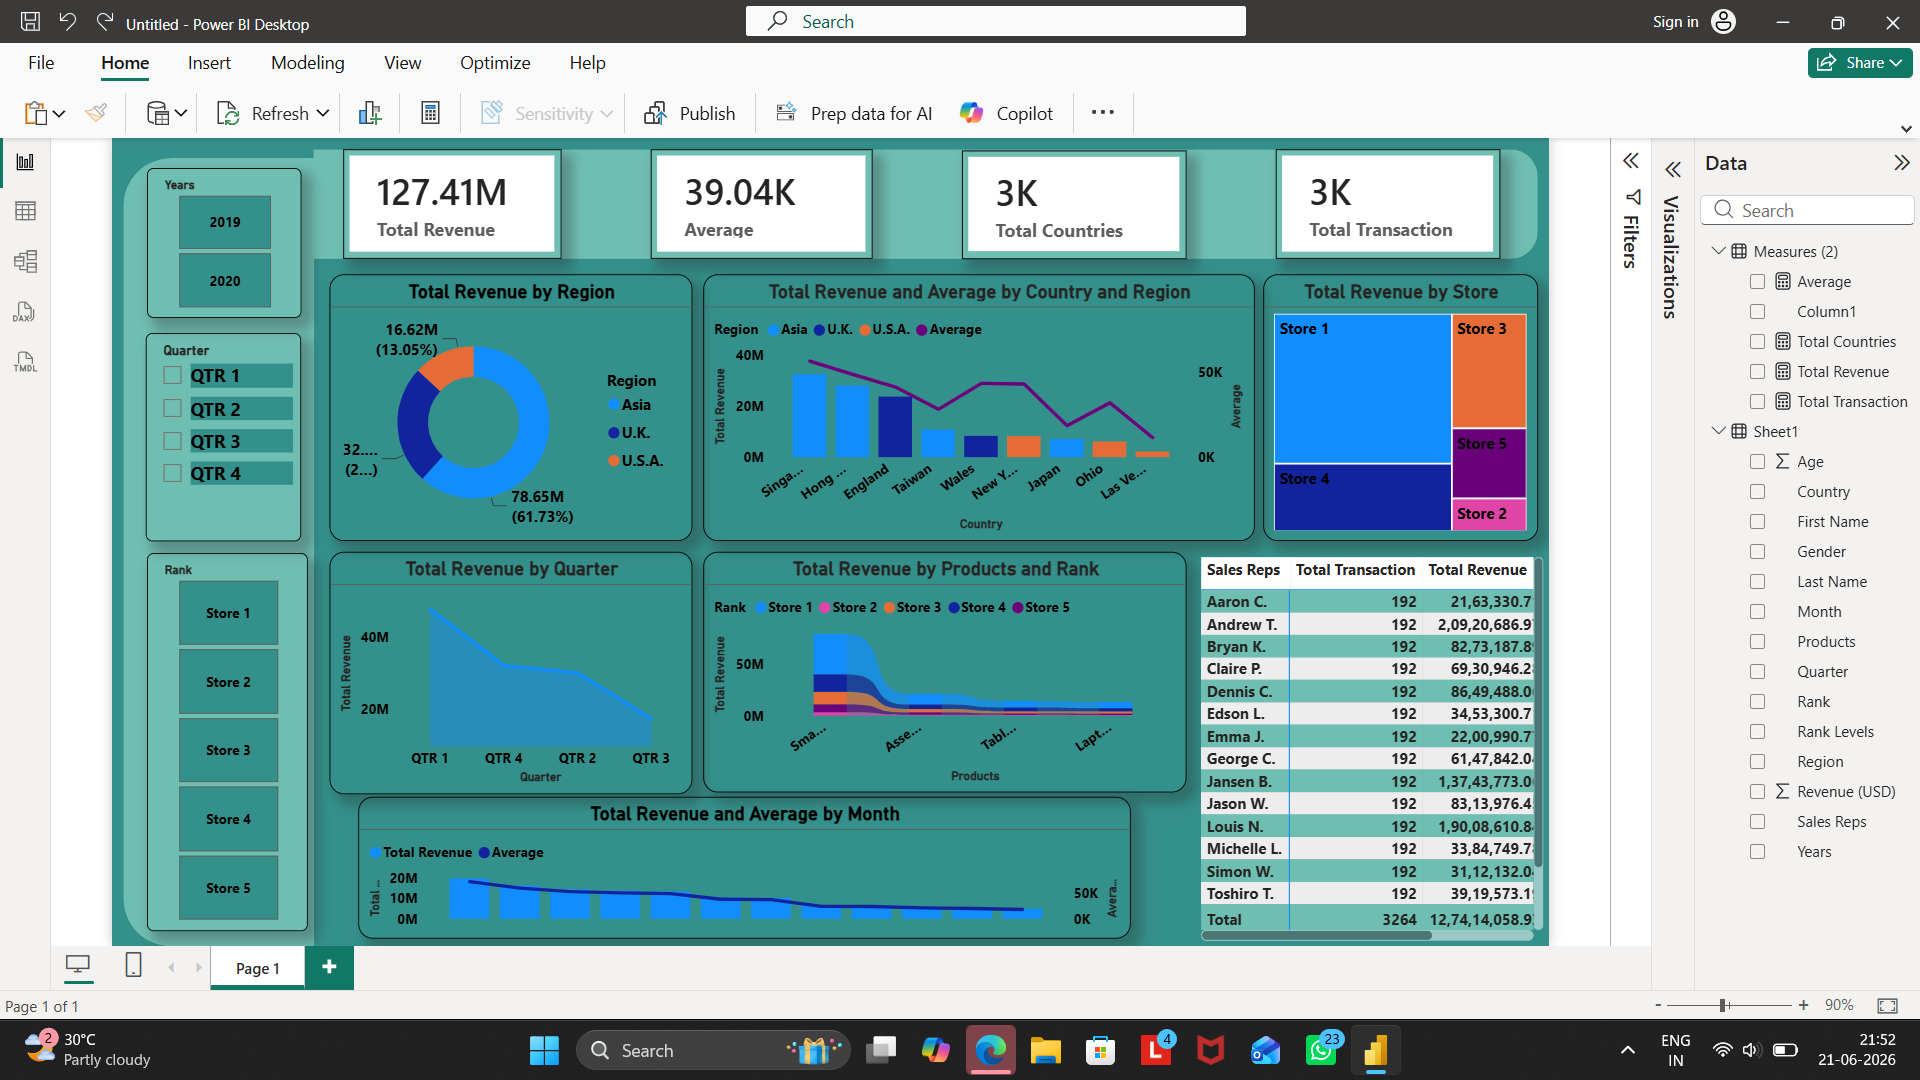

The dashboard page shown, as its layout file describes it:
{"tool":"powerbi","page":{"name":"Page 1","canvas":[1280,720],"ordinal":0},"visuals":[{"type":"shape","box":[9.7,18.1,170.1,702.1],"z":0},{"type":"shape","box":[179.8,9.7,1090.6,97.7],"z":1000},{"type":"cardVisual","fields":{"Data":["Measures (2).Total Revenue"]},"box":[206.3,9.7,194.2,97.7],"z":2000},{"type":"cardVisual","fields":{"Data":["Measures (2).Average"]},"box":[479.8,9.7,197.9,97.7],"z":3000},{"type":"cardVisual","fields":{"Data":["Measures (2).Total Countries"]},"box":[756.8,10.9,200.3,96.5],"z":4000},{"type":"cardVisual","fields":{"Data":["Measures (2).Total Transaction"]},"box":[1036.3,9.7,200.3,97.7],"z":5000},{"type":"donutChart","fields":{"Y":["Measures (2).Total Revenue"],"Category":["Sheet1.Region"]},"box":[194.2,121.9,323.3,237.7],"z":6000},{"type":"lineStackedColumnComboChart","fields":{"Category":["Sheet1.Country"],"Y":["Measures (2).Total Revenue"],"Y2":["Measures (2).Average"],"Series":["Sheet1.Region"]},"box":[526,121.9,491,237.7],"z":7000},{"type":"treemap","title":"Total Revenue by Store","fields":{"Values":["Measures (2).Total Revenue"],"Group":["Sheet1.Rank"]},"box":[1025.5,121.9,244.9,237.7],"z":8000},{"type":"areaChart","fields":{"Y":["Measures (2).Total Revenue"],"Category":["Sheet1.Quarter"]},"box":[194.2,368,323.3,216],"z":9000},{"type":"ribbonChart","fields":{"Category":["Sheet1.Products"],"Y":["Measures (2).Total Revenue"],"Series":["Sheet1.Rank"]},"box":[526,368,430.7,214.7],"z":10000},{"type":"pivotTable","fields":{"Rows":["Sheet1.Sales Reps"],"Values":["Measures (2).Total Transaction","Measures (2).Total Revenue","Measures (2).Average"]},"box":[965.2,368,314.9,351.1],"z":11000},{"type":"lineStackedColumnComboChart","fields":{"Y":["Measures (2).Total Revenue"],"Y2":["Measures (2).Average"],"Category":["Sheet1.Month"]},"box":[219.6,586.3,687.7,126.7],"z":12000},{"type":"slicer","fields":{"Values":["Sheet1.Years"]},"box":[31.4,26.5,137.5,133.9],"z":13000},{"type":"slicer","fields":{"Values":["Sheet1.Quarter"]},"box":[30.2,173.7,138.7,185.8],"z":14000},{"type":"slicer","fields":{"Values":["Sheet1.Rank"]},"box":[31.4,369.2,143.6,336.6],"z":15000}]}

Visuals, with their boxes on the page's 1280x720 design canvas (x1, y1, x2, y2). These are canvas units, not pixel positions in the 1920x1080 screenshot, which may show the page scaled, cropped or inside an application window:
shape: [10, 18, 180, 720]
shape: [180, 10, 1270, 107]
cardVisual - Measures (2).Total Revenue: [206, 10, 400, 107]
cardVisual - Measures (2).Average: [480, 10, 678, 107]
cardVisual - Measures (2).Total Countries: [757, 11, 957, 107]
cardVisual - Measures (2).Total Transaction: [1036, 10, 1237, 107]
donutChart - Measures (2).Total Revenue x Sheet1.Region: [194, 122, 518, 360]
lineStackedColumnComboChart - Sheet1.Country x Measures (2).Total Revenue: [526, 122, 1017, 360]
"Total Revenue by Store" treemap: [1026, 122, 1270, 360]
areaChart - Measures (2).Total Revenue x Sheet1.Quarter: [194, 368, 518, 584]
ribbonChart - Sheet1.Products x Measures (2).Total Revenue: [526, 368, 957, 583]
pivotTable - Sheet1.Sales Reps x Measures (2).Total Transaction: [965, 368, 1280, 719]
lineStackedColumnComboChart - Measures (2).Total Revenue x Measures (2).Average: [220, 586, 907, 713]
slicer - Sheet1.Years: [31, 26, 169, 160]
slicer - Sheet1.Quarter: [30, 174, 169, 360]
slicer - Sheet1.Rank: [31, 369, 175, 706]
